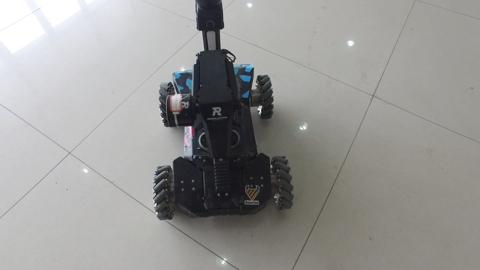chariot: (128, 19, 308, 226)
